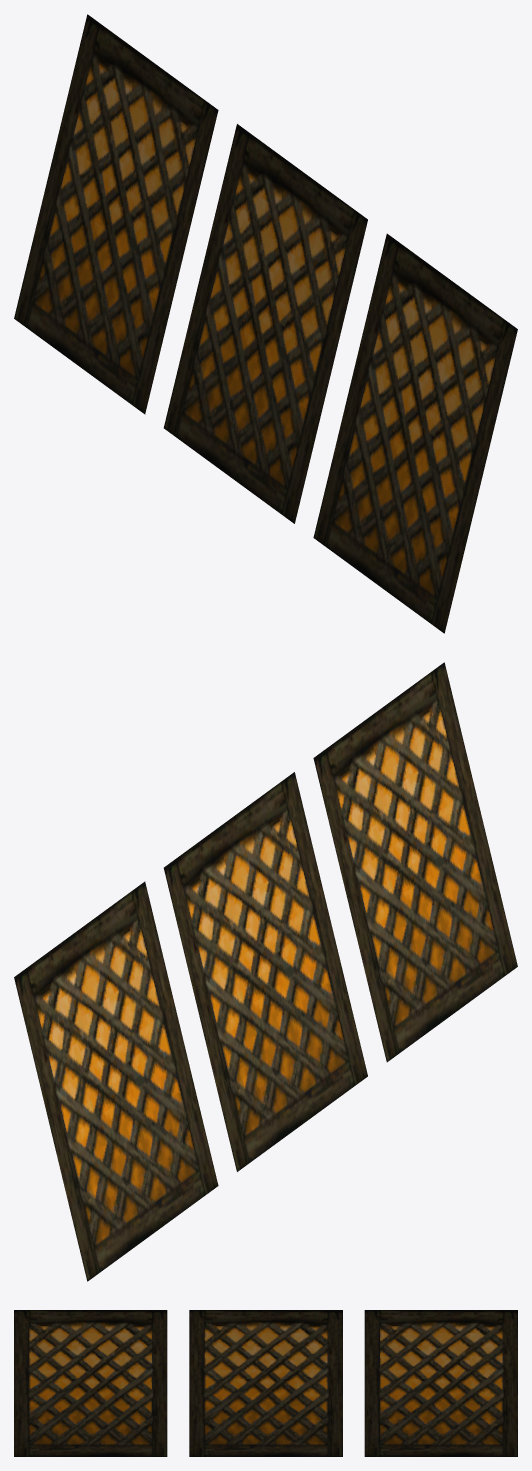
The model's file is LAKETOWN_EXTERIOR_PS_LT_WINDOWS2490.fbx.
3 renders of one model, top to bottom at view 1: azimuth 30°, elevation 25°; view 2: azimuth 150°, elevation 25°; view 3: azimuth 270°, elevation 25°, orthographic. The views are drawn at different scales.
Visible parts, largest first — view 1: LAKETOWN_EXTERIOR_PS_LT_WINDOWS2490; view 2: LAKETOWN_EXTERIOR_PS_LT_WINDOWS2490; view 3: LAKETOWN_EXTERIOR_PS_LT_WINDOWS2490.
Part boxes in pixels (x1,y1,x2,y2): LAKETOWN_EXTERIOR_PS_LT_WINDOWS2490: (14,14,517,633); LAKETOWN_EXTERIOR_PS_LT_WINDOWS2490: (14,662,517,1281); LAKETOWN_EXTERIOR_PS_LT_WINDOWS2490: (14,1310,517,1456).
Bounding box in the file's own units: 3391 × 12654 × 34449.
1 material, 1 textured.
